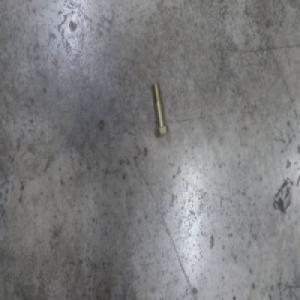Bolt: (152, 82, 169, 139)
